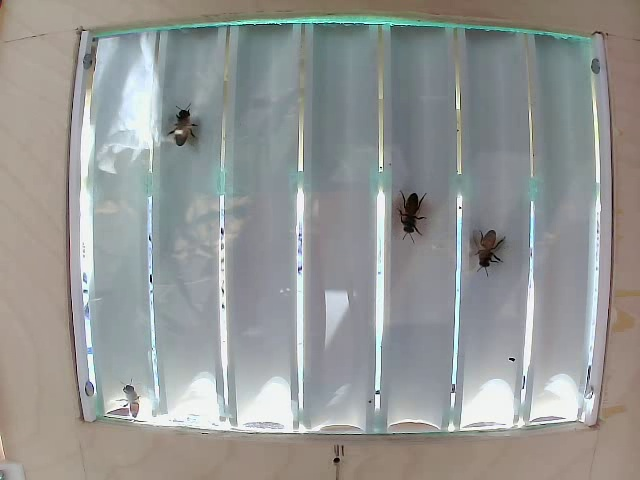bee: (387, 192, 440, 244), (464, 217, 514, 269), (150, 101, 209, 143)
